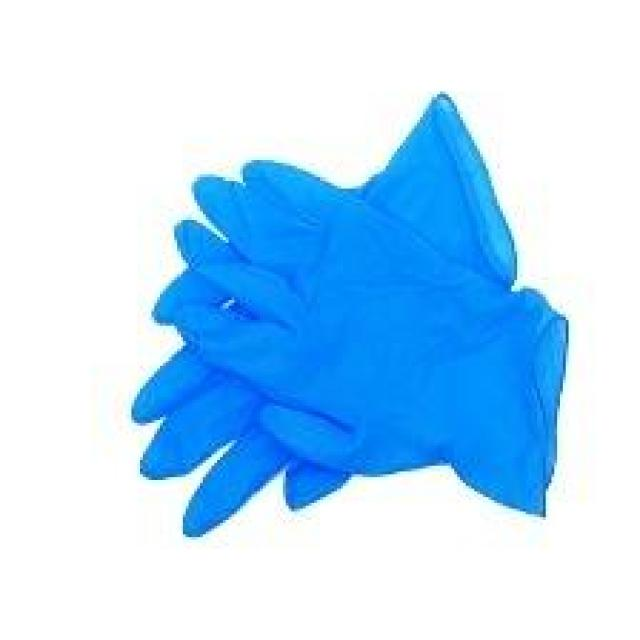Glove: (105, 104, 574, 530)
